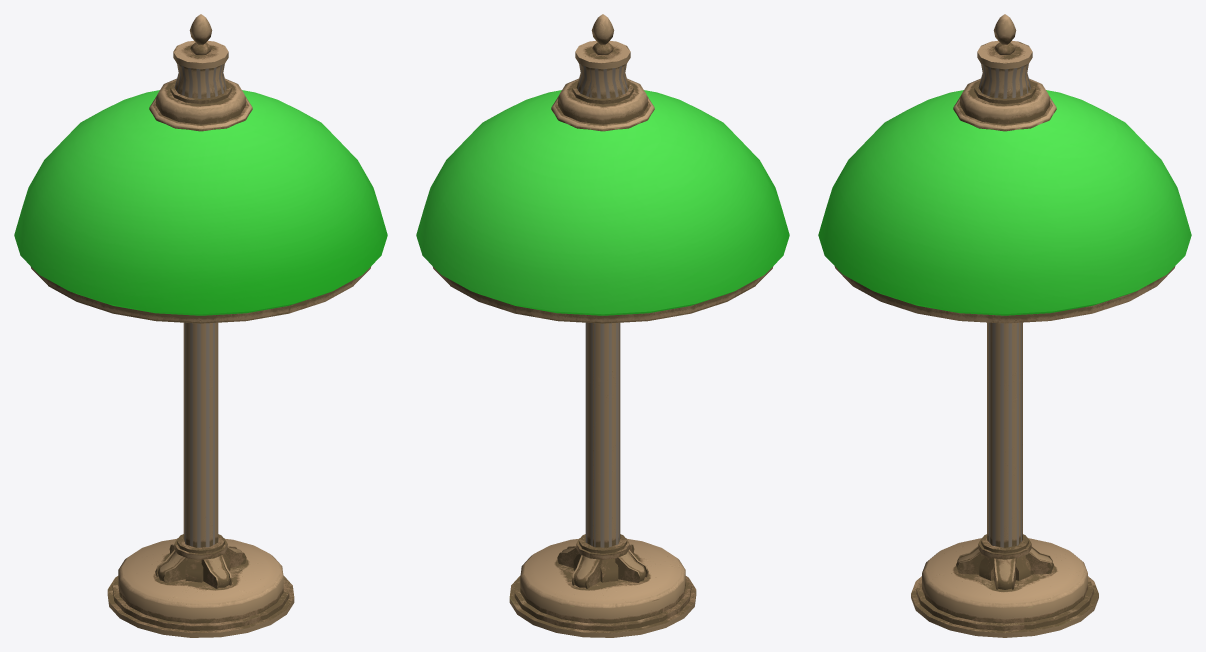
File: lamp.glb
3 views of the same model, side by side, from view 1: azimuth 30°, elevation 25°; view 2: azimuth 150°, elevation 25°; view 3: azimuth 270°, elevation 25° (orthographic).
Visible parts, largest first — view 1: SM_OldTableLamp_V03_0; view 2: SM_OldTableLamp_V03_0; view 3: SM_OldTableLamp_V03_0.
Boxes of the visible parts, x1,y1,x2,y2 form: SM_OldTableLamp_V03_0: (14,14,387,637); SM_OldTableLamp_V03_0: (416,14,789,637); SM_OldTableLamp_V03_0: (818,14,1191,637).
Bounding box in the file's own units: 0.2779 × 0.4797 × 0.2779.
Materials: 1 (1 with a texture image).
